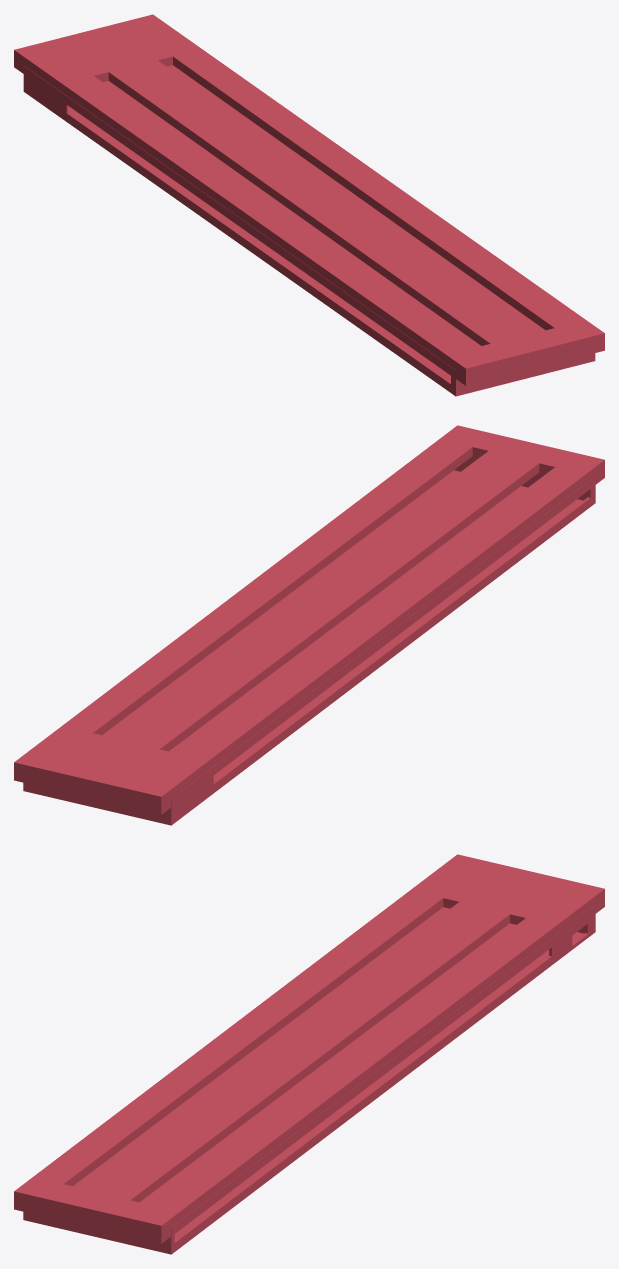
Rendered from Compartment Design #1 - Victor Siooh.glb.
The picture shows the model from 3 angles, top to bottom: view 1: azimuth 30°, elevation 25°; view 2: azimuth 150°, elevation 25°; view 3: azimuth 330°, elevation 25°; orthographic projection. The views are drawn at different scales.
Visible parts, largest first — view 1: Mesh_Mesh_head_geo.001_lambert2SG.001; view 2: Mesh_Mesh_head_geo.001_lambert2SG.001; view 3: Mesh_Mesh_head_geo.001_lambert2SG.001.
Boxes of the visible parts, x1,y1,x2,y2 form: Mesh_Mesh_head_geo.001_lambert2SG.001: (14, 14, 604, 396); Mesh_Mesh_head_geo.001_lambert2SG.001: (14, 425, 604, 825); Mesh_Mesh_head_geo.001_lambert2SG.001: (14, 854, 604, 1254).
Bounding box in the file's own units: 46 × 10 × 230.
